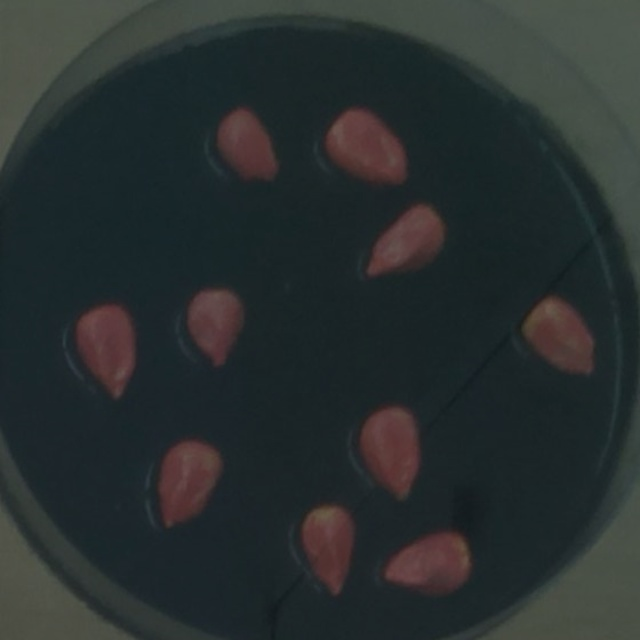Zea mays: (318, 101, 415, 196), (356, 197, 453, 289), (513, 288, 603, 386), (148, 431, 230, 538), (377, 523, 481, 606), (69, 299, 145, 410), (353, 399, 428, 511), (178, 281, 256, 377), (292, 498, 362, 603), (209, 100, 288, 193)
